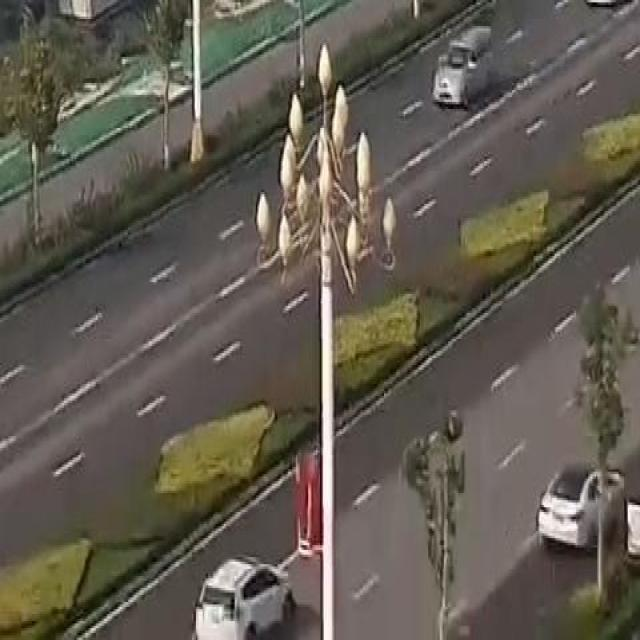other: (292, 438, 320, 544)
